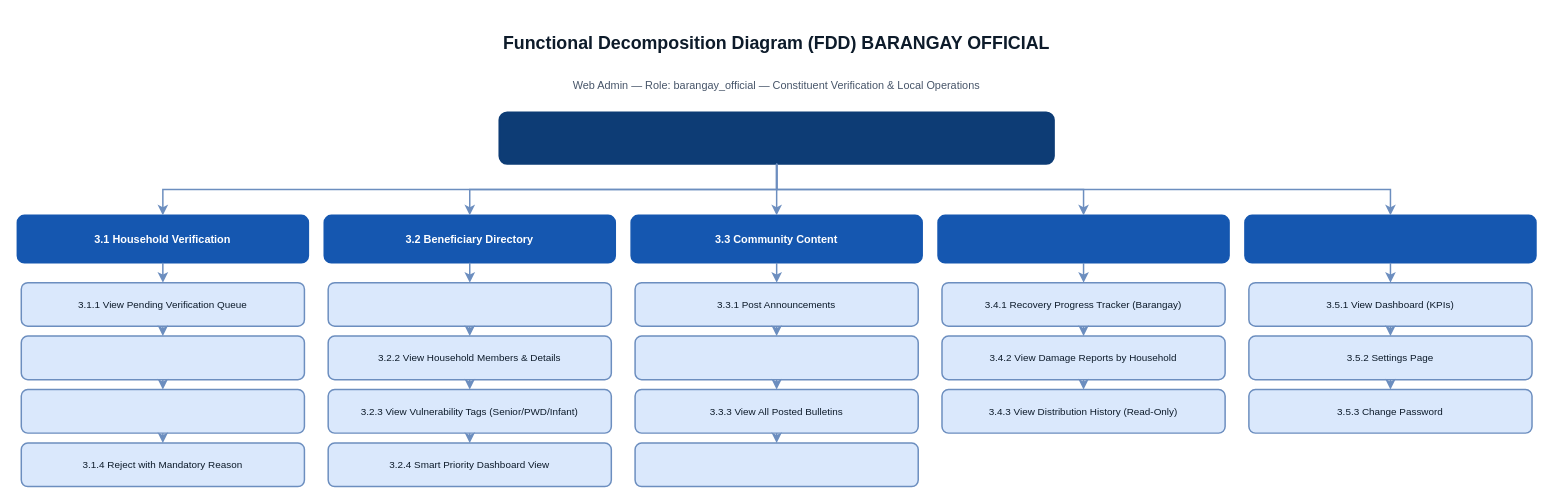
The diagram is 1554 pixels wide and 504 high, and some of its shapes have lost their labels. The centre of each missing label's shape, as x and y in pixels:
"3.1.2 Inspect Gov't ID Photo (Lightbox)" belongs at [162,357].
"3.1.3 Approve Household Registration" belongs at [162,410].
"3.2.1 Search & Filter Verified Households" belongs at [469,304].
"3.3.2 Edit / Delete Announcements" belongs at [776,357].
"3.3.4 Special Request Relief Queue" belongs at [776,464].
"3.4 Operations Monitoring" belongs at [1083,238].
"3.5 Account" belongs at [1390,238].
"BARANGAY OFFICIAL" belongs at [776,137].
